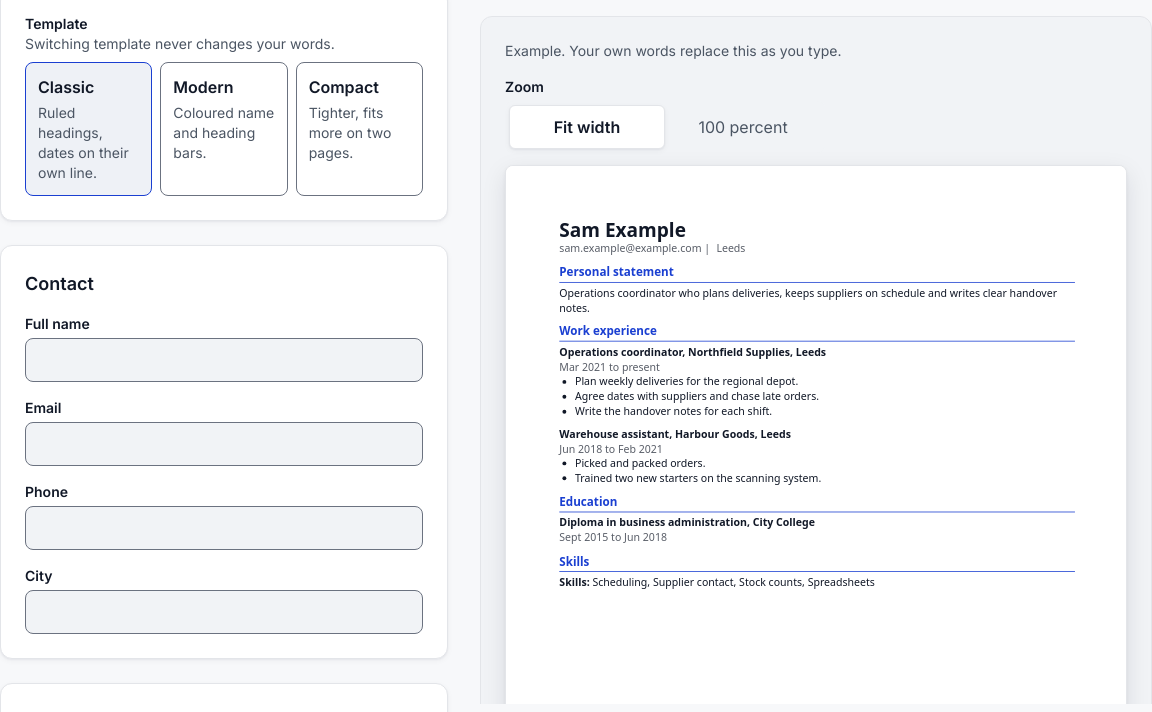
Test: autosave › Ctrl+S and Cmd+S save now and stop the browser's save dialog
The image size is (1152, 712).
(page scrolled)
Type "Now" into the field labelled "Full name" at [224, 360], box [25,338,423,382]
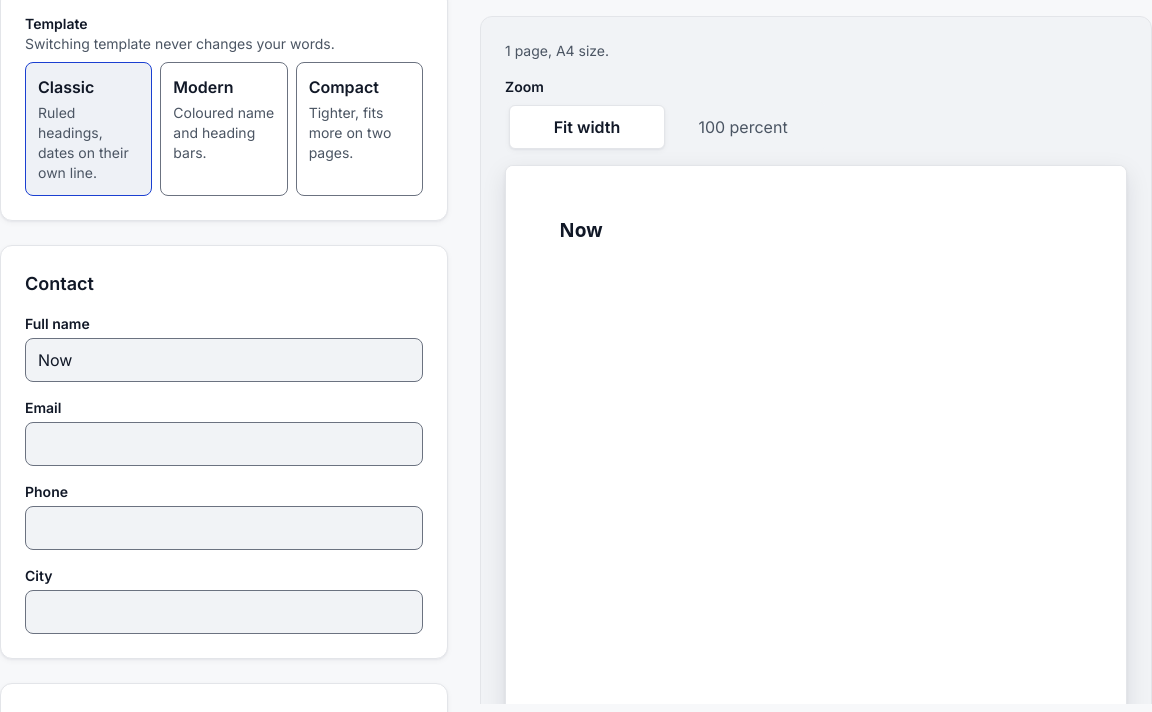
Expected: the heading "Now" is shown, [559,217,602,243]
